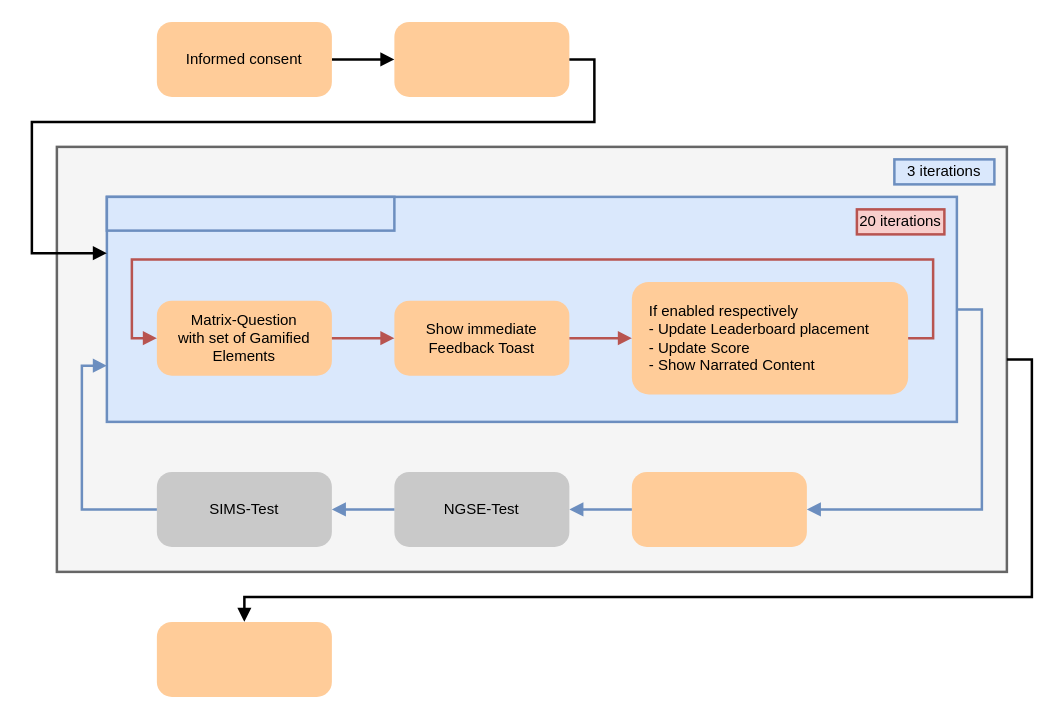
This 1064x718 diagram has some shape labels left out. Here are the shapes that lost their labels. From the top down, the centre of each, then its label:
(481,58): Demographic Data
(250,213): Gamified Digital Learning Environment
(718,508): STAI-Test
(243,658): End
